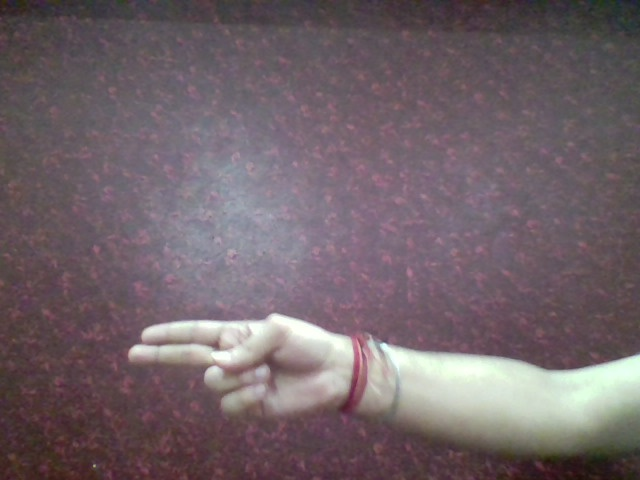h: (118, 303, 355, 430)
